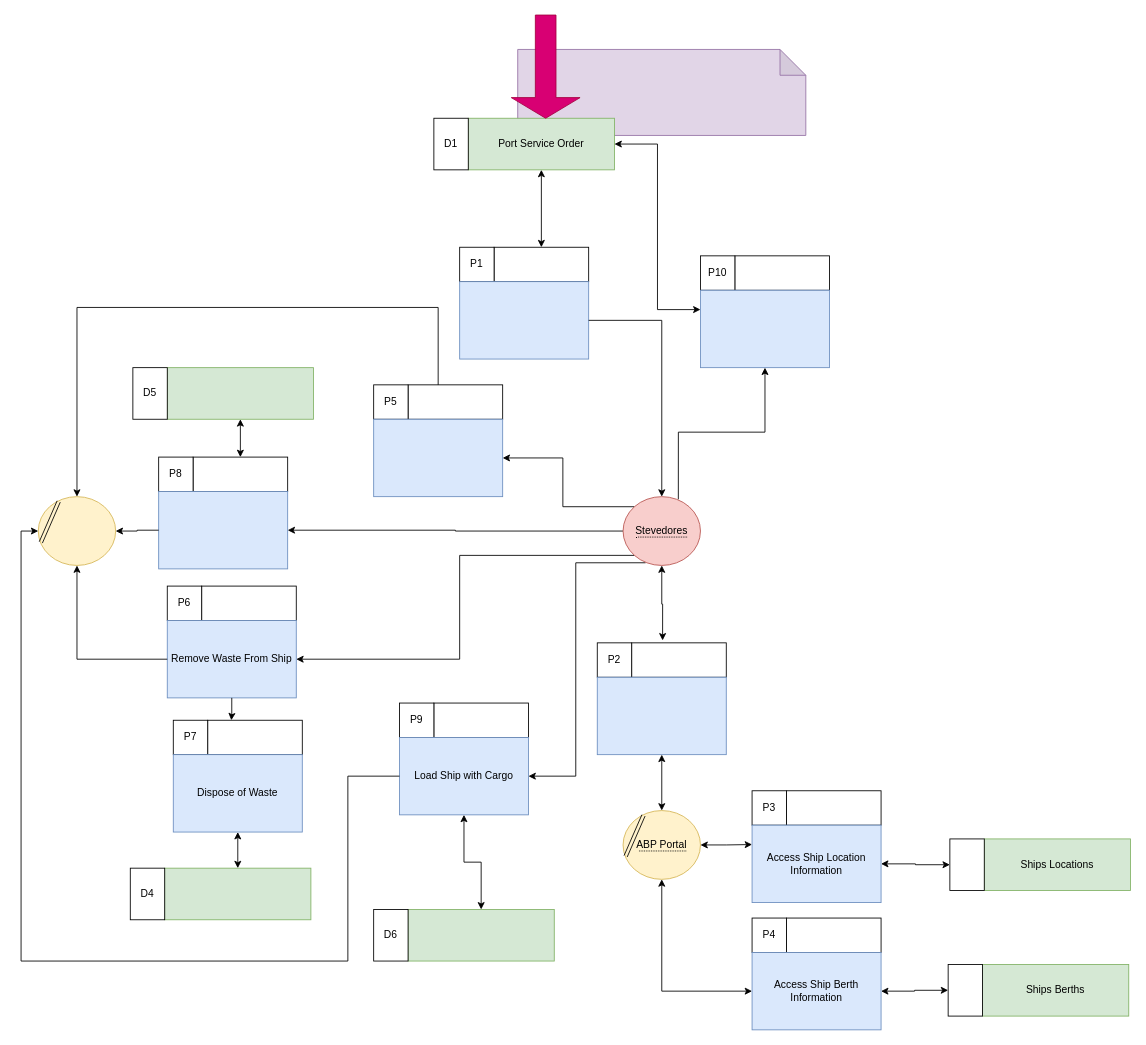
This 1146x1045 diagram has some shape labels left out. Each missing label, with the box of its shape:
Access ABP Portal, Retrieve Ship Location and Berth Information: (596, 676, 726, 755)
Cargo Location Information: (407, 909, 554, 961)
D2: (949, 838, 984, 891)
D3: (947, 964, 983, 1016)
Incoming from Another Process: (517, 49, 806, 135)
Provide Ship Access to Port: (373, 418, 503, 497)
Provision Water: (158, 491, 288, 569)
Read Port Service Order Information: (459, 281, 589, 359)
Ship: (37, 496, 116, 565)
Ship Waste Disposals: (164, 867, 311, 920)
Update Service Order on Completion: (700, 289, 829, 368)
Water Store Information: (166, 367, 313, 419)
